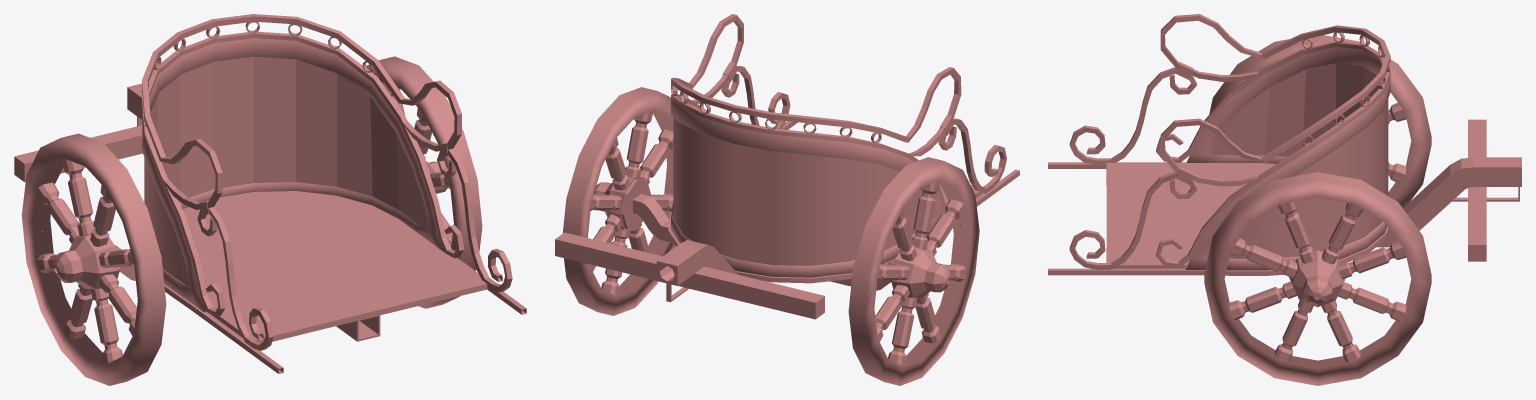
Rendered from Chariot_02.fbx.
3 renders of one model, left to right at view 1: azimuth 30°, elevation 25°; view 2: azimuth 150°, elevation 25°; view 3: azimuth 270°, elevation 25°, orthographic. The views are drawn at different scales.
Visible parts, largest first — view 1: Chariot_01; view 2: Chariot_01; view 3: Chariot_01.
Part boxes in pixels (x1=…): Chariot_01: x1=14, y1=14, x2=526, y2=385; Chariot_01: x1=555, y1=14, x2=1019, y2=385; Chariot_01: x1=1048, y1=14, x2=1521, y2=385.
Size of the model in its own units: 190 by 133 by 222.
